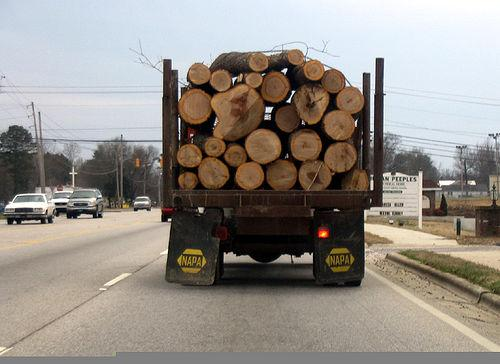truck: (160, 49, 385, 288)
